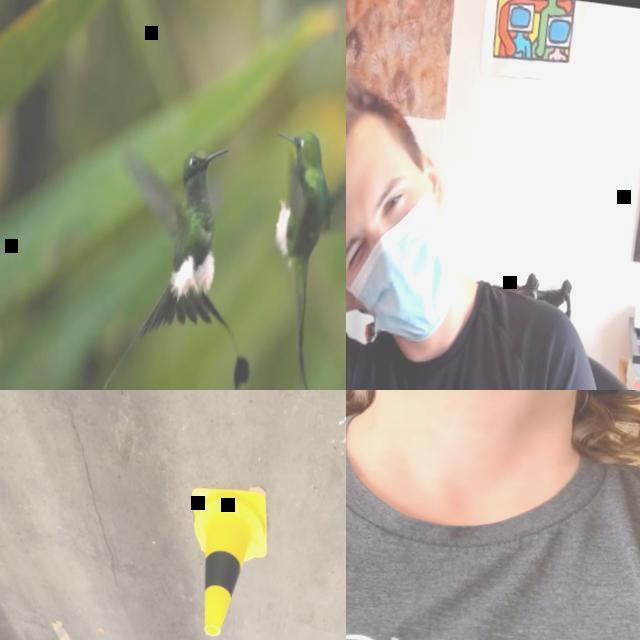mask: (346, 187, 463, 343)
no_helmet: (346, 72, 385, 239)
no_vest: (346, 400, 640, 640), (346, 283, 577, 390)
person: (346, 63, 640, 390), (346, 390, 640, 640)
safety_cone: (175, 480, 279, 640)
